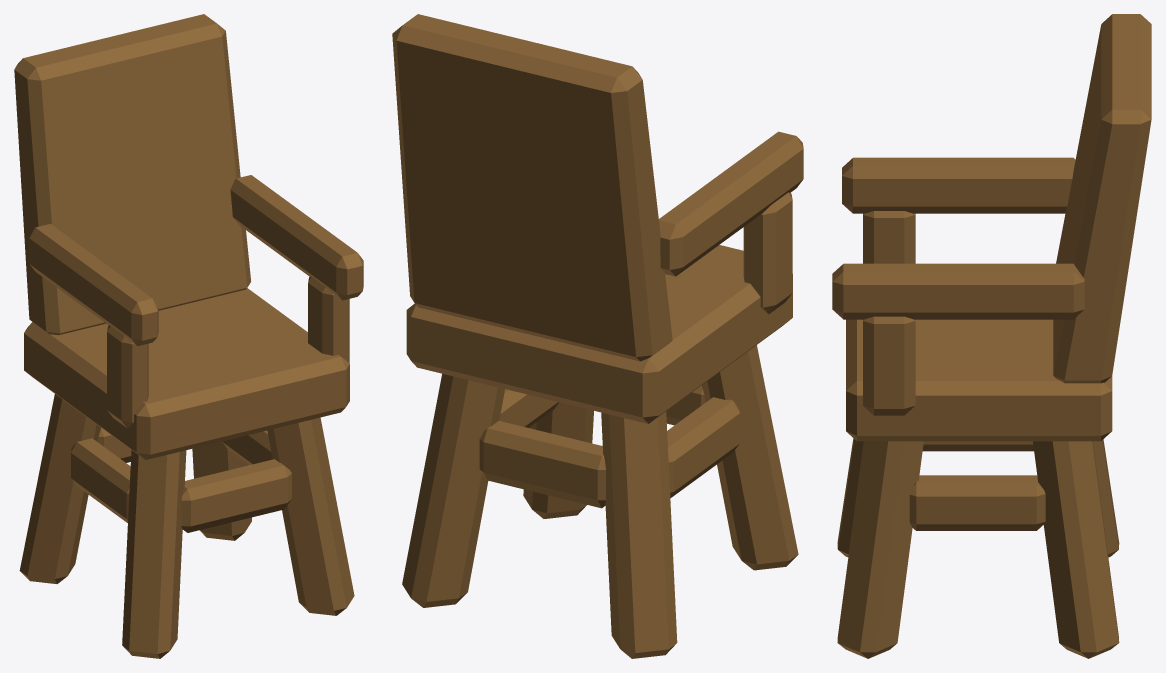
Rendered from chair_a.gltf.
The picture shows the model from 3 angles, left to right: view 1: azimuth 30°, elevation 25°; view 2: azimuth 150°, elevation 25°; view 3: azimuth 270°, elevation 25°; orthographic projection. The views are drawn at different scales.
Parts seen in each view (by area): view 1: chair_a001; view 2: chair_a001; view 3: chair_a001.
Boxes of the visible parts, x1=… form: chair_a001: x1=14, y1=14, x2=363, y2=658; chair_a001: x1=392, y1=14, x2=803, y2=658; chair_a001: x1=832, y1=14, x2=1151, y2=658.
Size of the model in its own units: 0.4283 by 0.8984 by 0.4795.
Materials: 1 (1 with a texture image).
